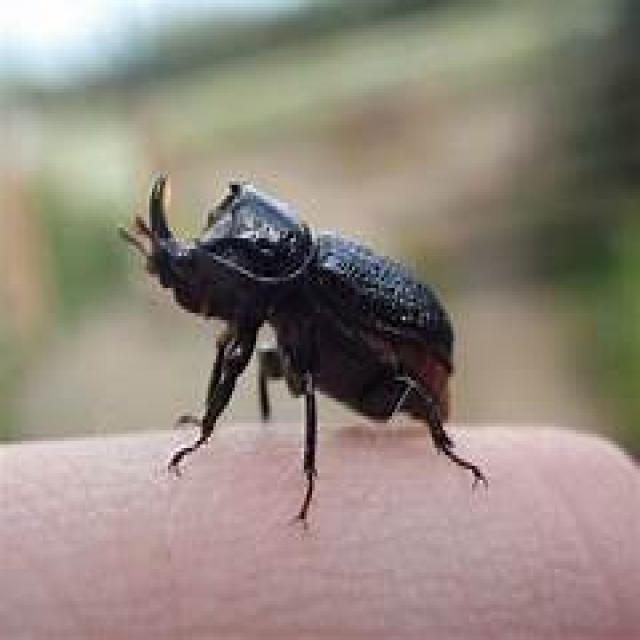Rhino-beetle: (92, 170, 510, 515)
